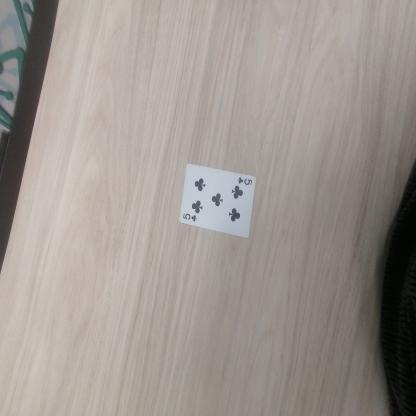5C: (235, 174, 257, 188), (182, 207, 198, 225)
